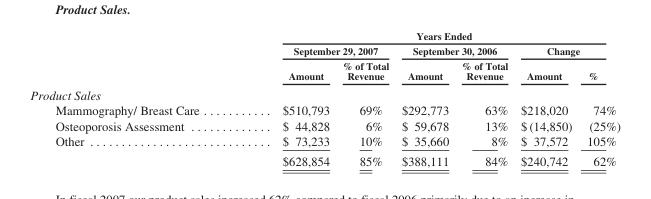table: (29, 29, 619, 167)
table column: (29, 29, 240, 167), (240, 29, 335, 167), (513, 29, 578, 167), (394, 29, 454, 167), (335, 29, 394, 167), (454, 29, 513, 167), (578, 29, 619, 167)
table column header: (29, 29, 619, 84)
table projected row header: (29, 84, 619, 102)
table row: (29, 57, 619, 84), (29, 84, 619, 102), (29, 132, 619, 150), (29, 150, 619, 167), (29, 42, 619, 57), (29, 102, 619, 117), (29, 117, 619, 132), (29, 29, 619, 42)
table spanning cell: (240, 29, 619, 42), (240, 42, 394, 57), (394, 42, 513, 57), (513, 42, 619, 57)
